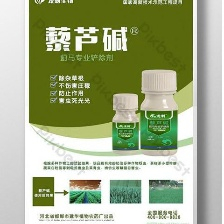insecticide: (138, 66, 179, 158), (110, 91, 141, 156)
